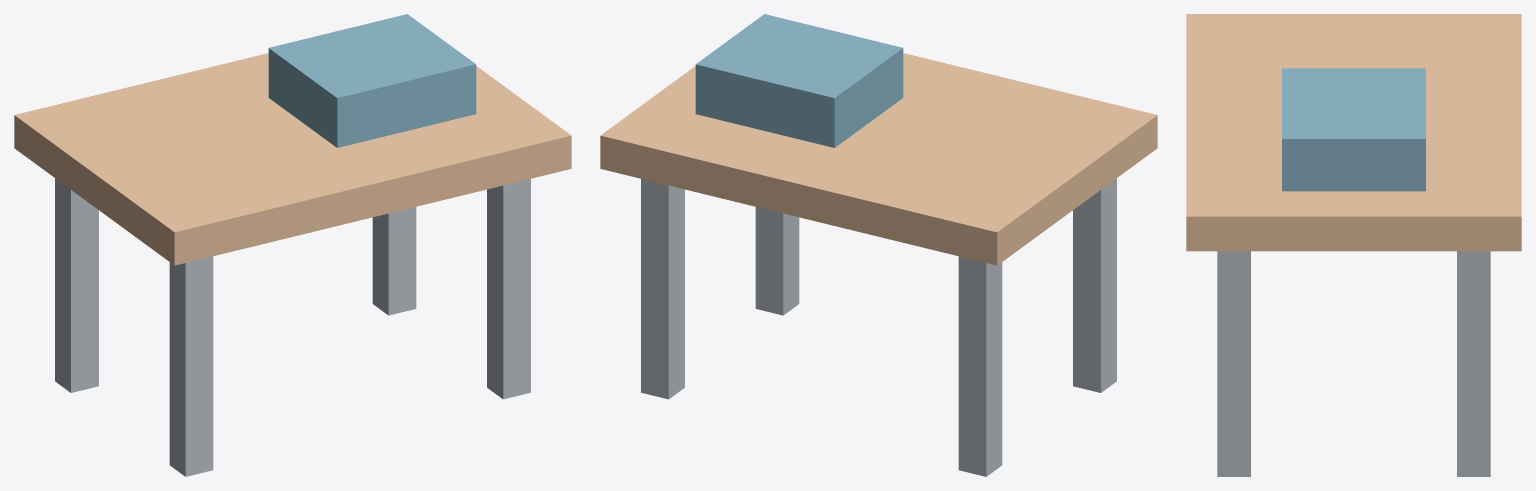
Rendered from inspection_bench.glb.
The picture shows the model from 3 angles, left to right: view 1: azimuth 30°, elevation 25°; view 2: azimuth 150°, elevation 25°; view 3: azimuth 270°, elevation 25°; orthographic projection. The views are drawn at different scales.
Size of the model in its own units: 1 by 0.75 by 0.7.
